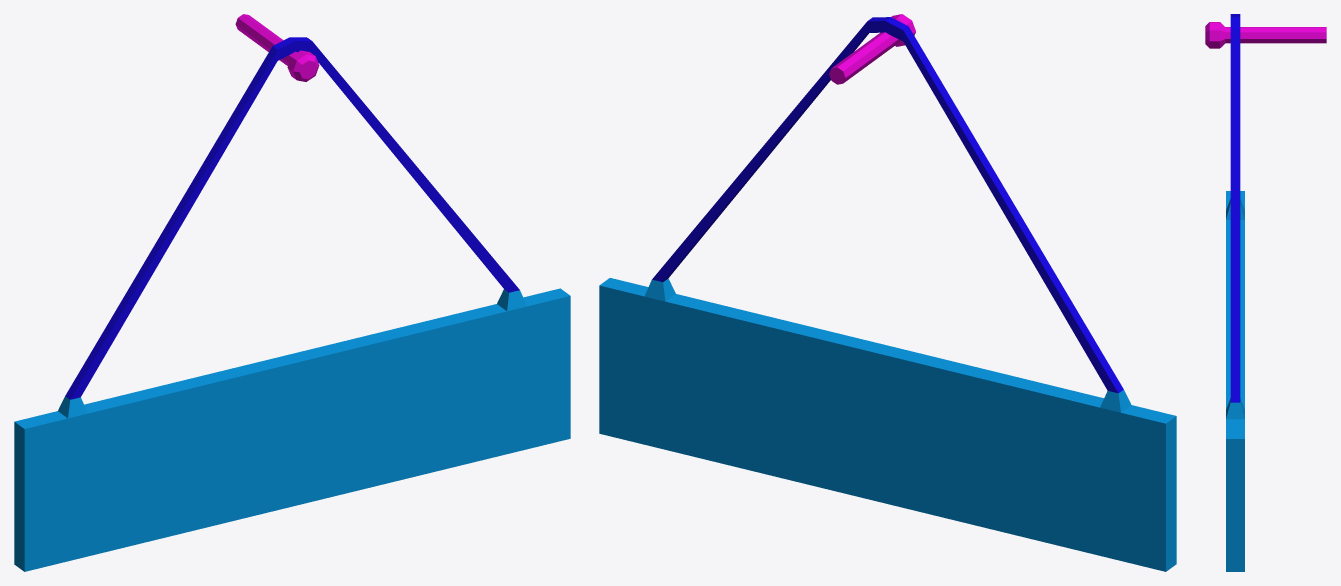
File: insegna_frigo_surgelati.fbx
3 views of the same model, side by side, from view 1: azimuth 30°, elevation 25°; view 2: azimuth 150°, elevation 25°; view 3: azimuth 270°, elevation 25° (orthographic). The views are drawn at different scales.
Visible parts, largest first — view 1: Latticini; view 2: Latticini; view 3: Latticini.
Part boxes in pixels (x1,y1,x2,y2): Latticini: [14, 14, 570, 571]; Latticini: [599, 14, 1176, 571]; Latticini: [1205, 14, 1326, 571].
Bounding box in the file's own units: 600 × 486 × 124.
